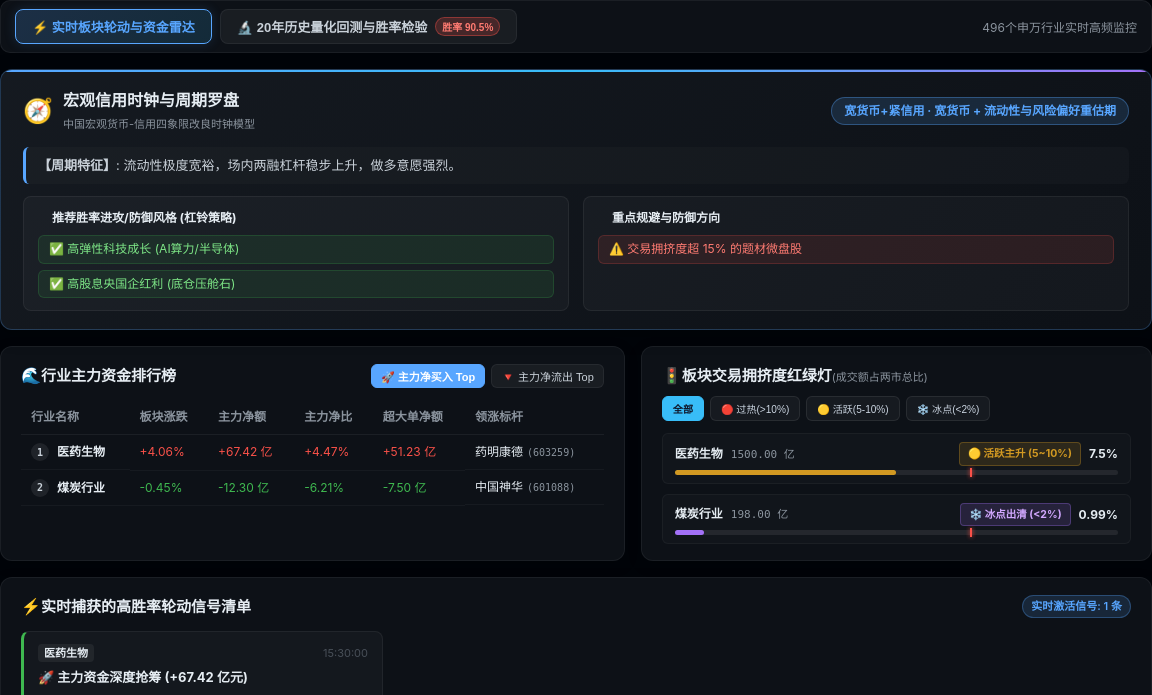
Market Dashboard UI Components › SectorRotationRadar › should render macro compass, sector flow table, crowdedness meter, and signals
expect the heading "宏观信用时钟与周期罗盘" is shown: met, box [63,88,255,112]
expect the text "宽货币+紧信用 · 宽货币 + 流动性与风险偏好重估期" is shown: met, box [831,96,1129,124]
# 切换流出 Tab
Step 1. Click the button "🔻 主力净流出 Top" → (548, 376), box [491,364,604,388]
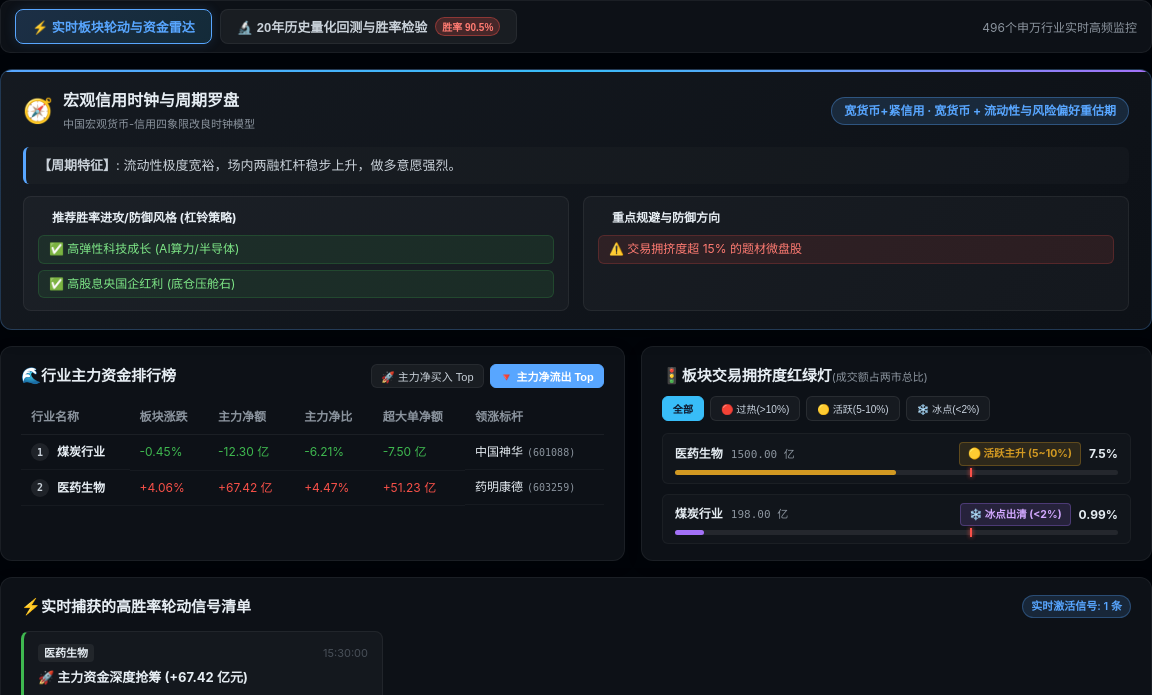
expect the text "中国神华" is shown: met, box [475,443,523,461]
expect the text "板块交易拥挤度红绿灯" is shown: met, box [682,366,832,385]
# 切换到 20年量化回测与胜率检验 Tab
Step 2. Click the button "🔬 20年历史量化回测与胜率检验 胜率 90.5%" → (368, 26), box [220,9,517,44]
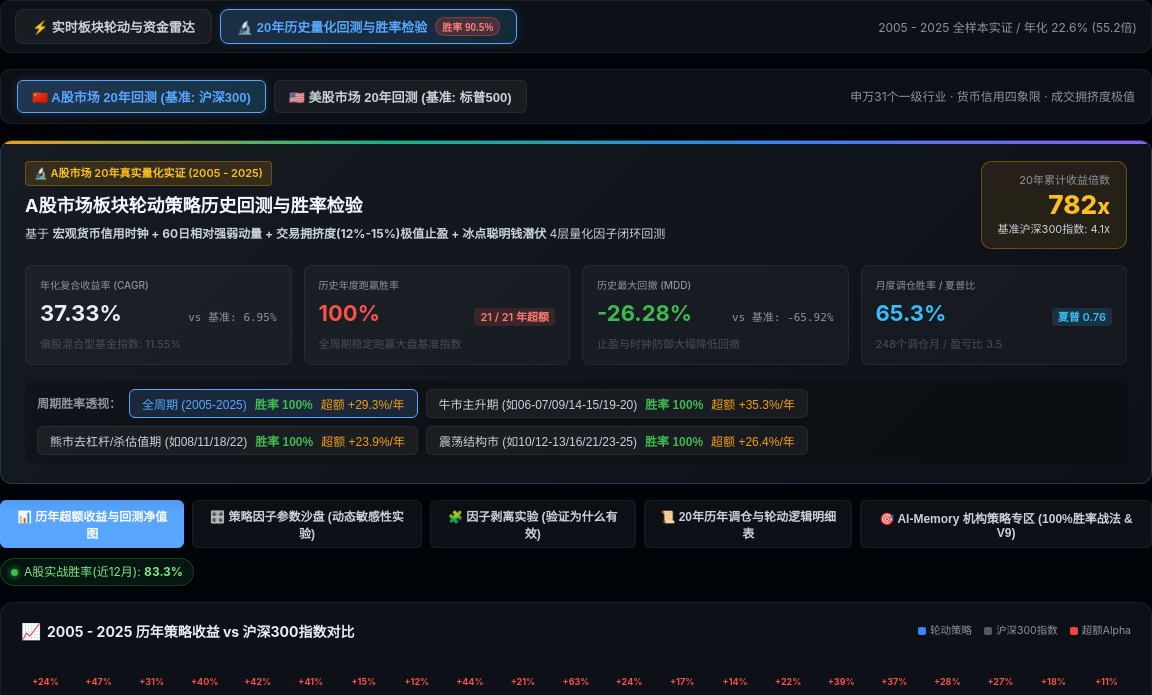
expect the heading "板块轮动策略历史回测与胜率检验" is shown: met, box [92,194,362,216]
expect the text "年化复合收益率 (CAGR)" is shown: met, box [40,279,149,291]
expect the text "历史年度跑赢胜率" is shown: met, box [318,279,399,291]
# 切换因子剥离子标签
Step 3. Click the button "🧩 因子剥离实验 (验证为什么有效)" → (533, 524), box [430,500,636,548]
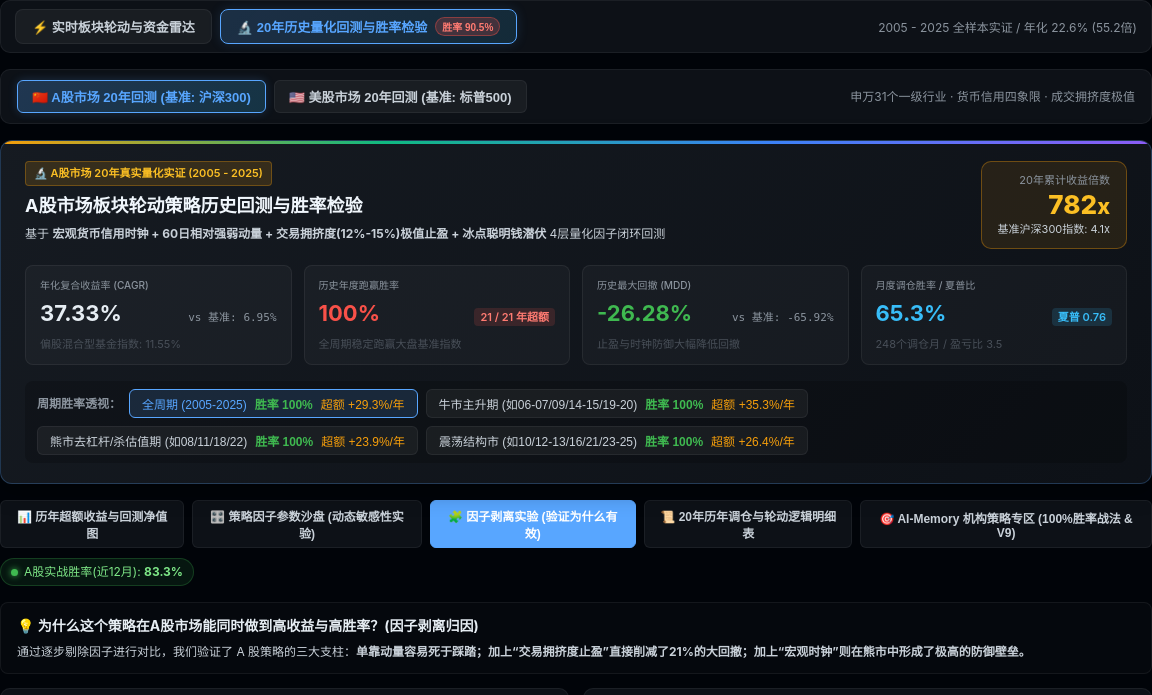
expect the text "单靠动量容易死于踩踏；加上“交易拥挤度止盈”直接削减了21%的大回撤；加上“宏观时钟”则在熊市中形成了极高的防御壁垒。" is shown: met, box [356,644,1031,659]
# 切换历年明细表子标签
Step 4. Click the button "📜 20年历年调仓与轮动逻辑明细表" → (748, 524), box [644,500,852,548]
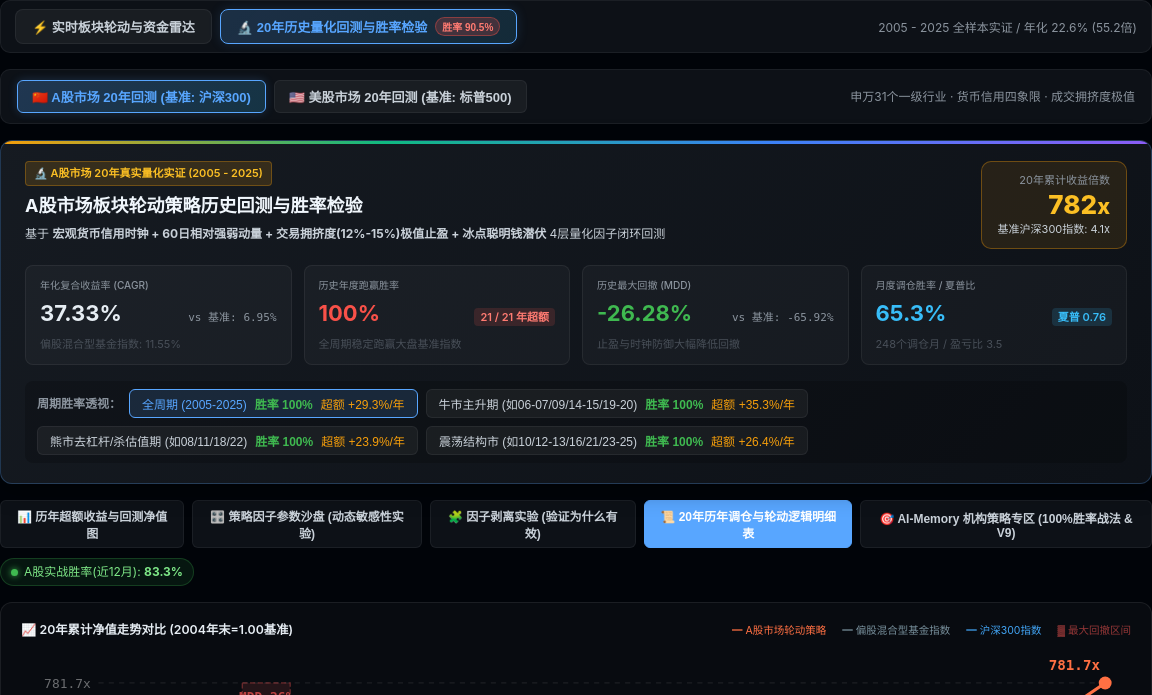
# 切换到美股 20年回测
Step 5. Click the button "🇺🇸 美股市场 20年回测 (基准: 标普500)" → (400, 96), box [274,80,526,113]
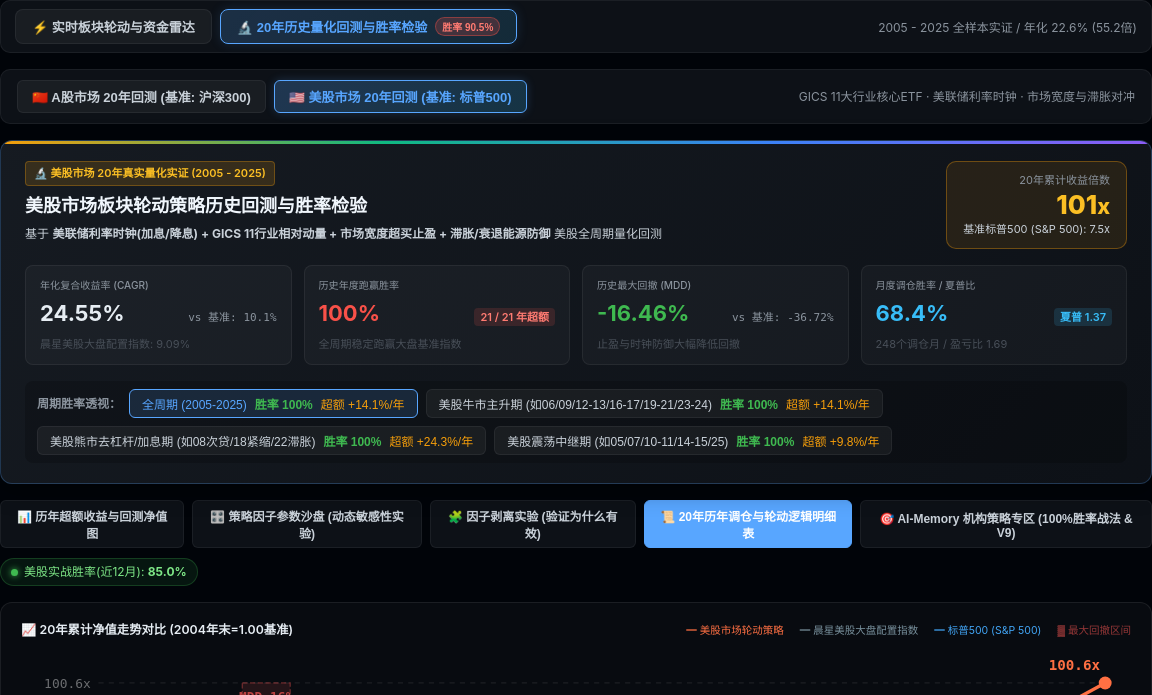
expect the button "🇺🇸 美股市场 20年回测 (基准: 标普500)" is shown: met, box [274,80,526,113]
expect the heading "美股市场板块轮动策略历史回测与胜率检验" is shown: met, box [25,194,367,216]
